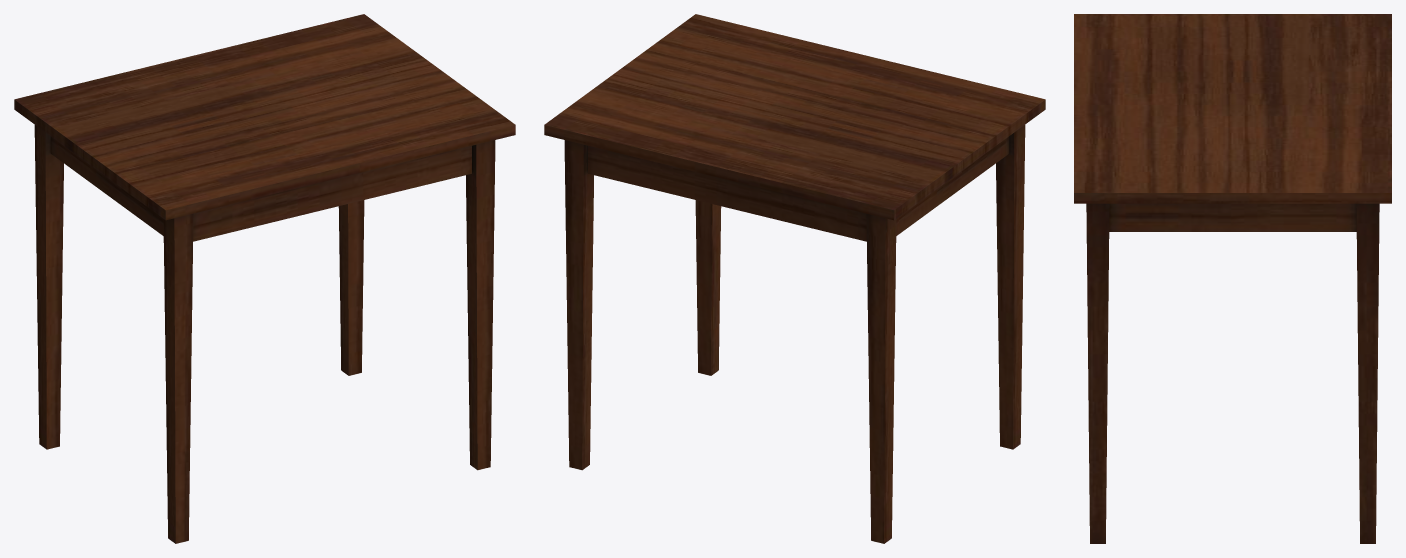
File: table_kitchen_lod1_web.glb
The picture shows the model from 3 angles, left to right: view 1: azimuth 30°, elevation 25°; view 2: azimuth 150°, elevation 25°; view 3: azimuth 270°, elevation 25°; orthographic projection. The views are drawn at different scales.
Parts seen in each view (by area): view 1: TableKitchen_Mesh; view 2: TableKitchen_Mesh; view 3: TableKitchen_Mesh.
Part boxes in pixels (left/top/right/bottom): TableKitchen_Mesh: left=14, top=14, right=515, bottom=543; TableKitchen_Mesh: left=544, top=14, right=1045, bottom=543; TableKitchen_Mesh: left=1074, top=14, right=1391, bottom=543.
Size of the model in its own units: 0.8 by 0.75 by 0.6.
Materials: 1 (1 with a texture image).
